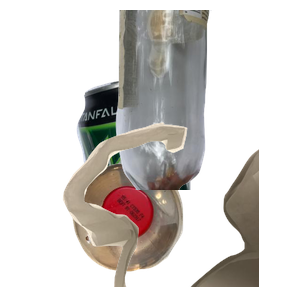glass: (113, 10, 300, 190)
metal: (74, 74, 257, 254)
plastic: (69, 161, 245, 300)
trash: (60, 120, 300, 300)
